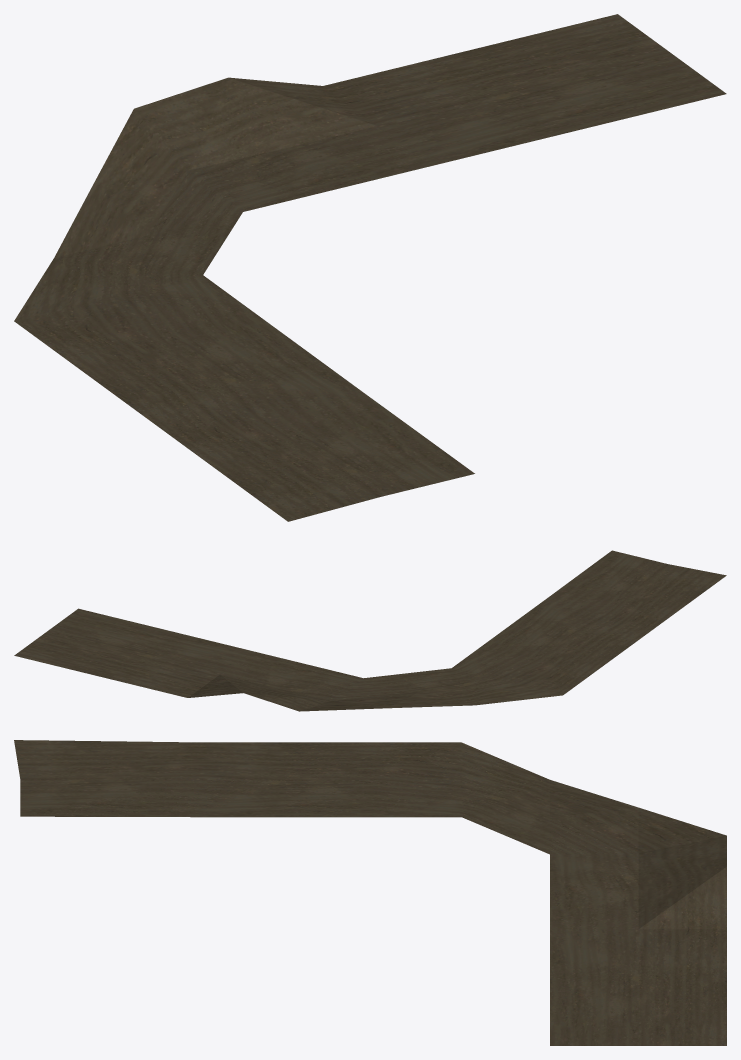
File: blend_path11.fbx
3 renders of one model, top to bottom at view 1: azimuth 30°, elevation 25°; view 2: azimuth 150°, elevation 25°; view 3: azimuth 270°, elevation 25°, orthographic. The views are drawn at different scales.
Parts seen in each view (by area): view 1: obj2.002; view 2: obj2.002; view 3: obj2.002.
Part boxes in pixels (x1,y1,x2,y2): obj2.002: [14, 14, 726, 521]; obj2.002: [14, 550, 726, 711]; obj2.002: [14, 740, 726, 1045].
Size of the model in its own units: 20.35 by 0.7958 by 20.14.
